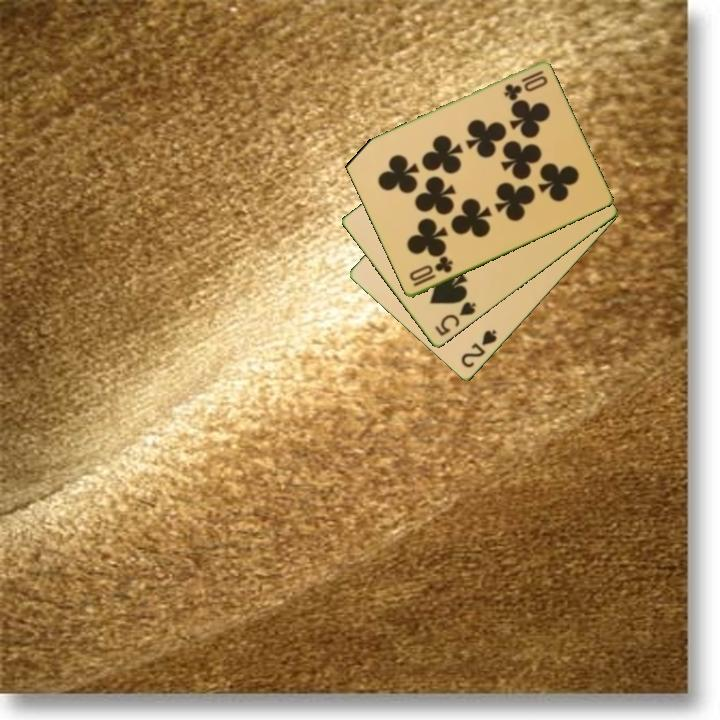10c: (405, 253, 456, 290), (500, 67, 551, 103)
2s: (457, 326, 500, 371)
5s: (431, 298, 479, 340)
